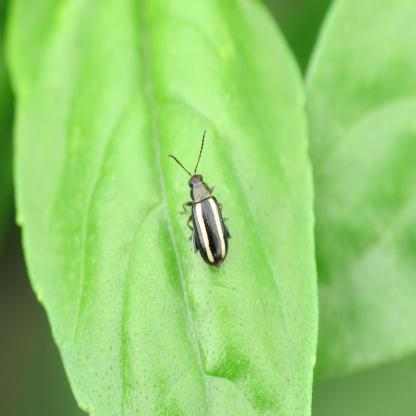beetle: (170, 134, 245, 274)
